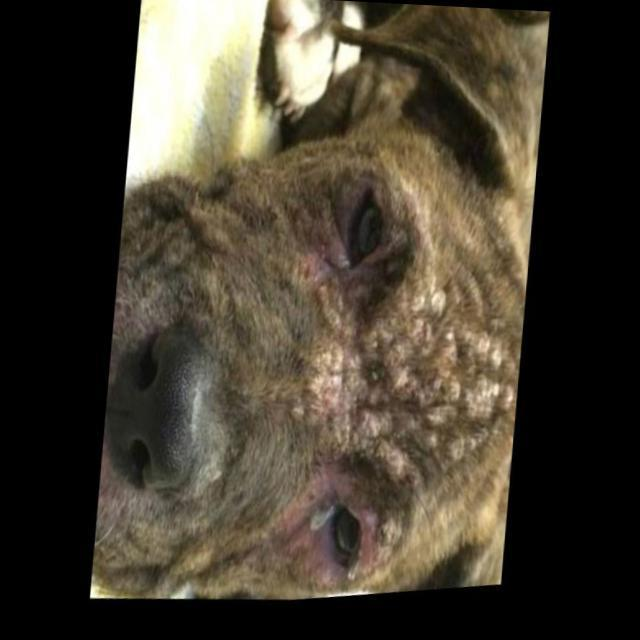mange: (300, 284, 526, 474)
